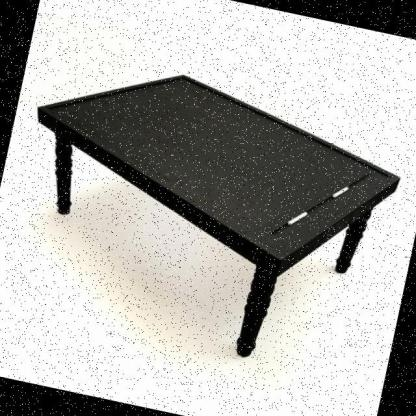Table: (0, 30, 416, 416)
